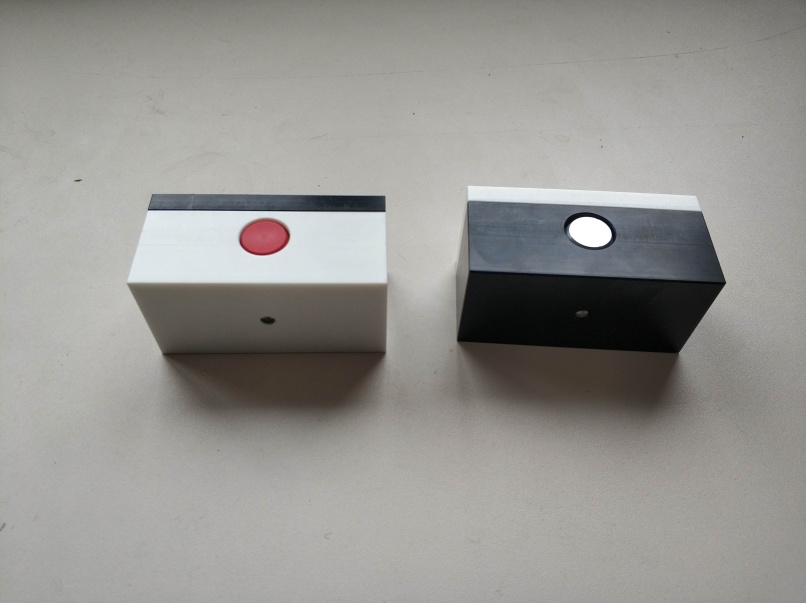black+white+red: (127, 191, 390, 361)
white+black+silver: (454, 182, 728, 355)
